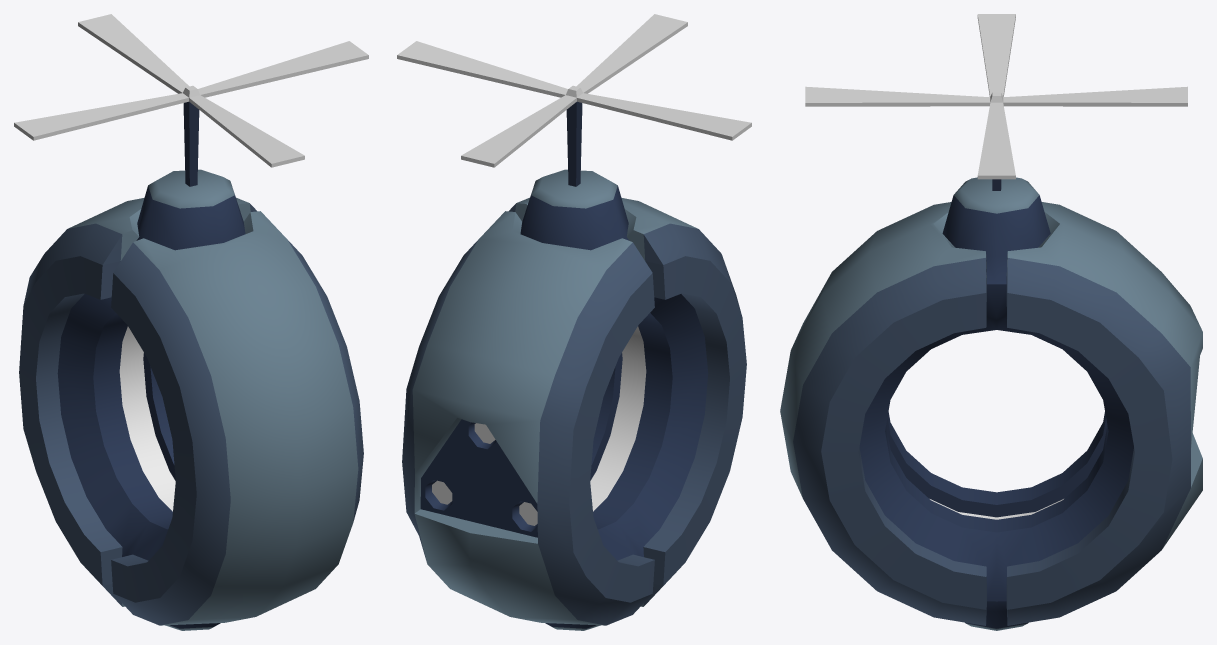
Rendered from dronut.fbx.
3 views of the same model, side by side, from view 1: azimuth 30°, elevation 25°; view 2: azimuth 150°, elevation 25°; view 3: azimuth 270°, elevation 25° (orthographic).
Parts seen in each view (by area): view 1: Drone, DroneRotor, DroneGlow; view 2: Drone, DroneRotor, DroneGlow; view 3: Drone, DroneRotor.
Part boxes in pixels (x1,y1,x2,y2): Drone: (19, 101, 363, 630); DroneRotor: (14, 14, 368, 167); DroneGlow: (119, 326, 175, 511); Drone: (402, 101, 746, 630); DroneRotor: (397, 14, 751, 167); DroneGlow: (432, 326, 646, 525); Drone: (780, 177, 1202, 630); DroneRotor: (805, 14, 1187, 179).
Bounding box in the file's own units: 2.21 × 3.32 × 2.44.
